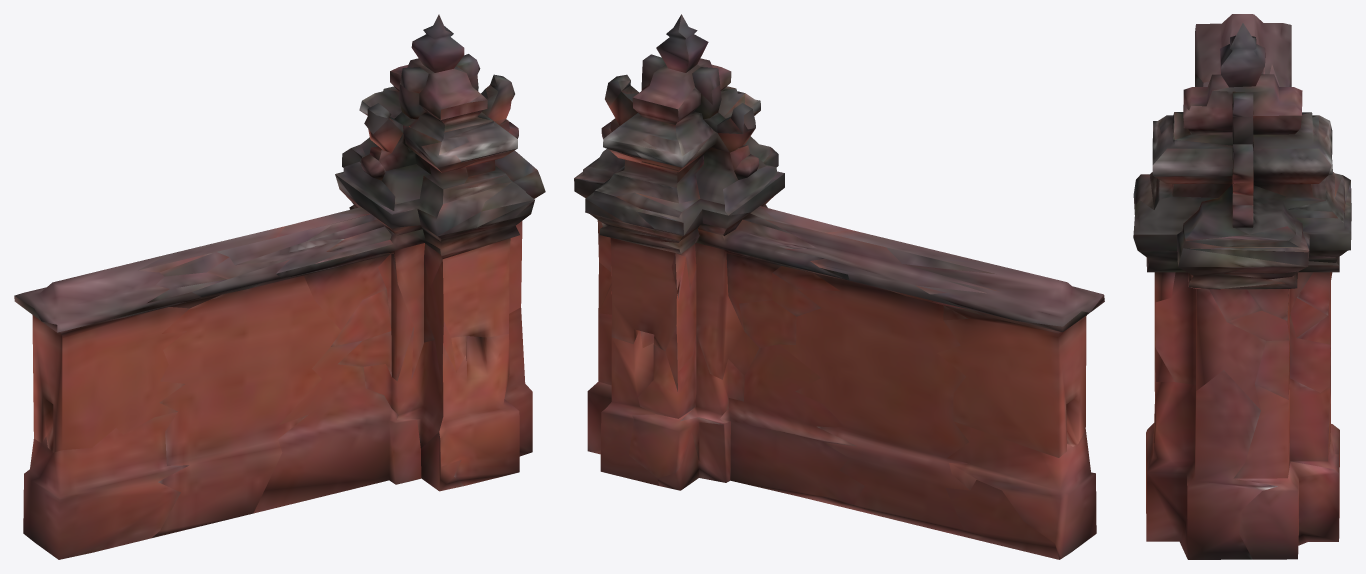
Rendered from tembok_bata_lod2.glb.
The picture shows the model from 3 angles, left to right: view 1: azimuth 30°, elevation 25°; view 2: azimuth 150°, elevation 25°; view 3: azimuth 270°, elevation 25°; orthographic projection. The views are drawn at different scales.
Parts seen in each view (by area): view 1: tripo_node_943eea36-198f-40b2-af12-7461f2f8de59; view 2: tripo_node_943eea36-198f-40b2-af12-7461f2f8de59; view 3: tripo_node_943eea36-198f-40b2-af12-7461f2f8de59.
Part boxes in pixels (x1,y1,x2,y2): tripo_node_943eea36-198f-40b2-af12-7461f2f8de59: [14, 14, 545, 559]; tripo_node_943eea36-198f-40b2-af12-7461f2f8de59: [574, 14, 1104, 559]; tripo_node_943eea36-198f-40b2-af12-7461f2f8de59: [1133, 14, 1351, 559].
Bounding box in the file's own units: 0.6637 × 0.5753 × 0.2282.
Materials: 1 (1 with a texture image).
